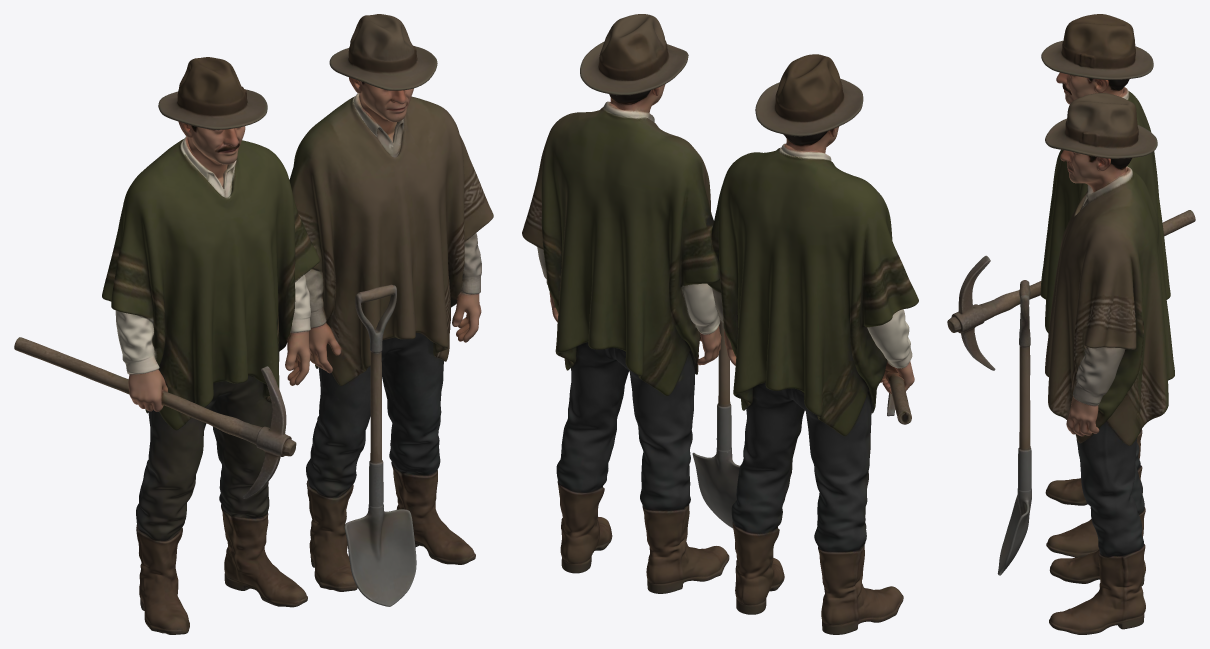
Rendered from 17-la-peña-de-sanabria-encantada-optimized.glb.
The picture shows the model from 3 angles, left to right: view 1: azimuth 30°, elevation 25°; view 2: azimuth 150°, elevation 25°; view 3: azimuth 270°, elevation 25°; orthographic projection. The views are drawn at different scales.
Visible parts, largest first — view 1: tripo_node_02890015-e879-4621-9e21-a68a23a561eb; view 2: tripo_node_02890015-e879-4621-9e21-a68a23a561eb; view 3: tripo_node_02890015-e879-4621-9e21-a68a23a561eb.
Part boxes in pixels (left/top/right/bottom): tripo_node_02890015-e879-4621-9e21-a68a23a561eb: left=14, top=14, right=493, bottom=634; tripo_node_02890015-e879-4621-9e21-a68a23a561eb: left=522, top=14, right=918, bottom=634; tripo_node_02890015-e879-4621-9e21-a68a23a561eb: left=947, top=14, right=1195, bottom=634.
Size of the model in its own units: 0.8232 by 1 by 0.4439.
Materials: 1 (1 with a texture image).
